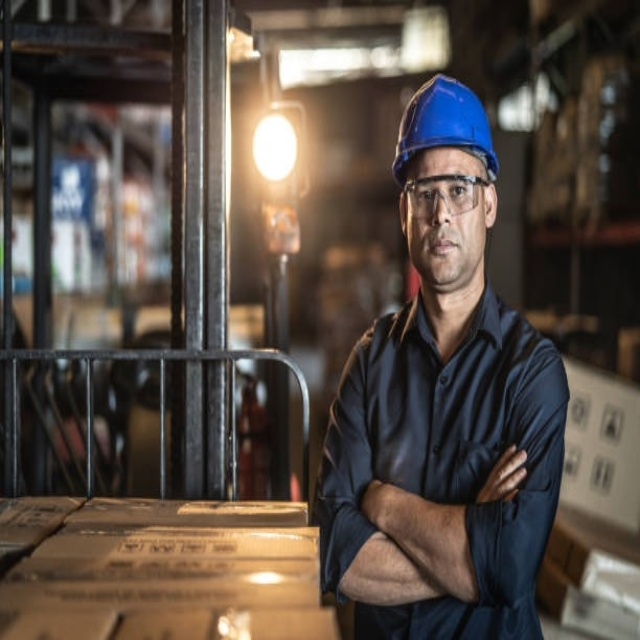Gafas: (402, 171, 492, 216)
Sin_guantes: (475, 443, 529, 505)
Sin_mascara: (420, 231, 465, 271)
